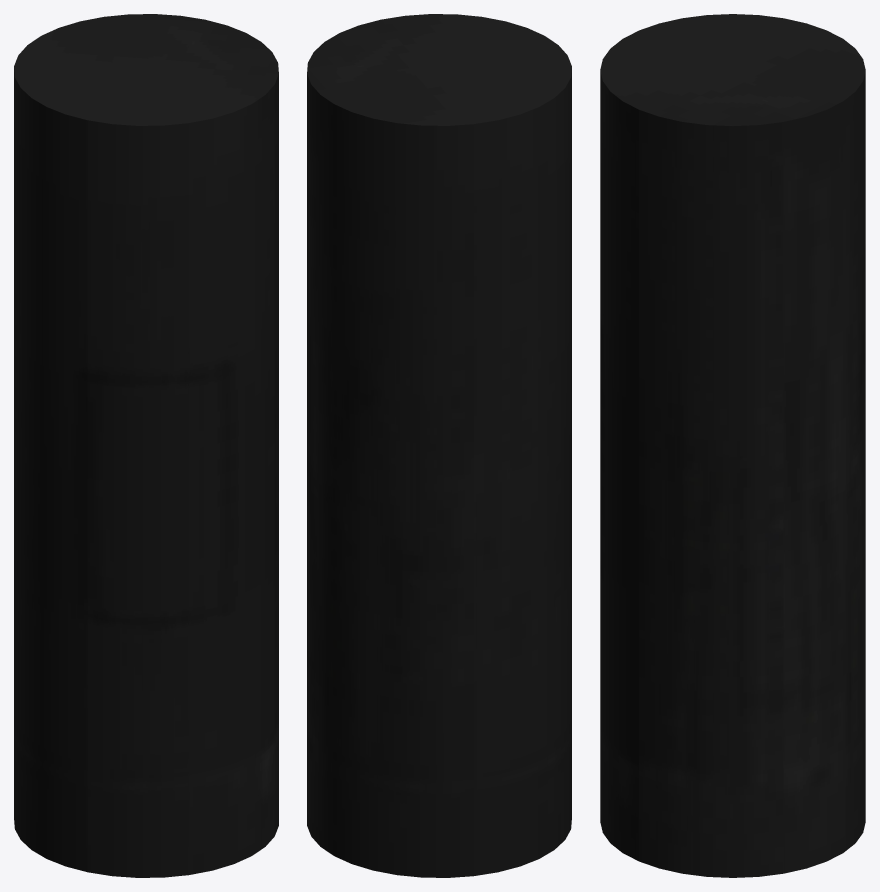
The model's file is support_link__lower_pivot.glb.
3 renders of one model, left to right at view 1: azimuth 30°, elevation 25°; view 2: azimuth 150°, elevation 25°; view 3: azimuth 270°, elevation 25°, orthographic.
Parts seen in each view (by area): view 1: world; view 2: world; view 3: world.
Boxes of the visible parts, box(x1,y1,x2,y2) form: world: box(14, 14, 278, 877); world: box(307, 14, 571, 877); world: box(600, 14, 865, 877).
Bounding box in the file's own units: 0.032 × 0.1 × 0.032.
1 material, 1 textured.
